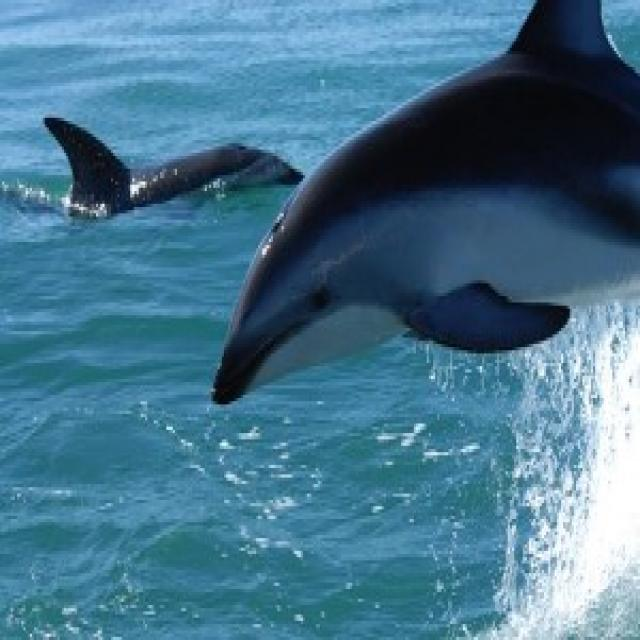Dolphin: (215, 102, 640, 434), (39, 106, 294, 218)
